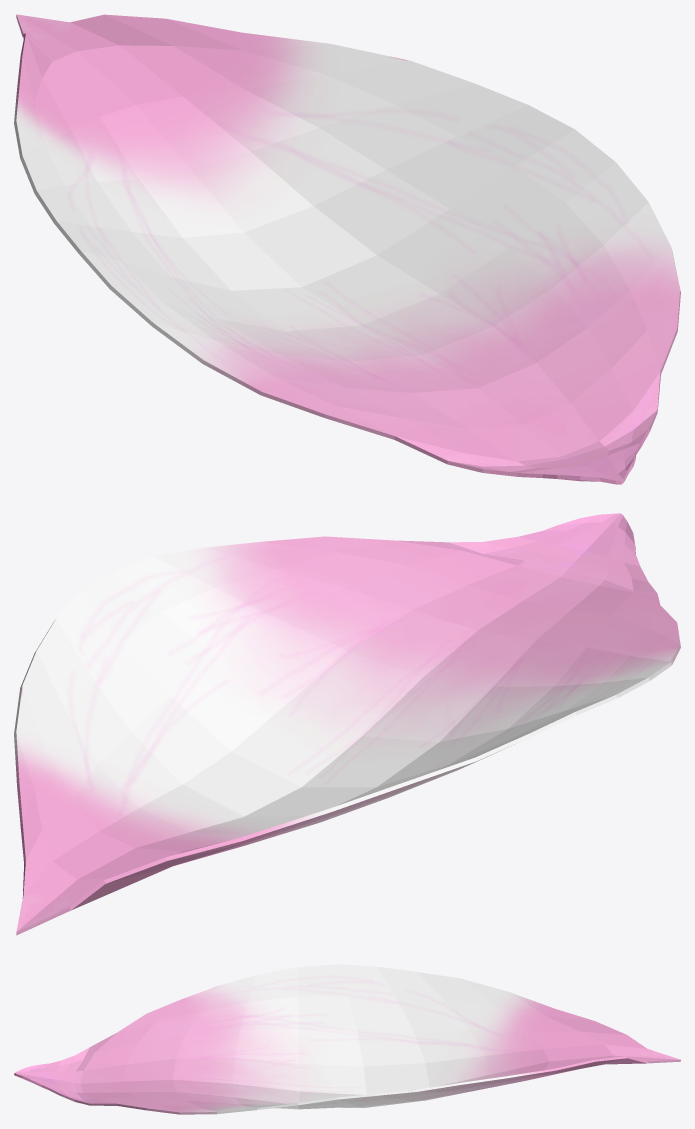
The model's file is 花瓣tuo.fbx.
3 views of the same model, one above another, from view 1: azimuth 30°, elevation 25°; view 2: azimuth 150°, elevation 25°; view 3: azimuth 270°, elevation 25° (orthographic). The views are drawn at different scales.
Parts seen in each view (by area): view 1: 花瓣; view 2: 花瓣; view 3: 花瓣.
Part boxes in pixels (box(x1,y1,x2,y2)): 花瓣: box(14, 14, 680, 484); 花瓣: box(14, 513, 680, 935); 花瓣: box(14, 964, 680, 1114).
Size of the model in its own units: 147 by 33.51 by 303.
